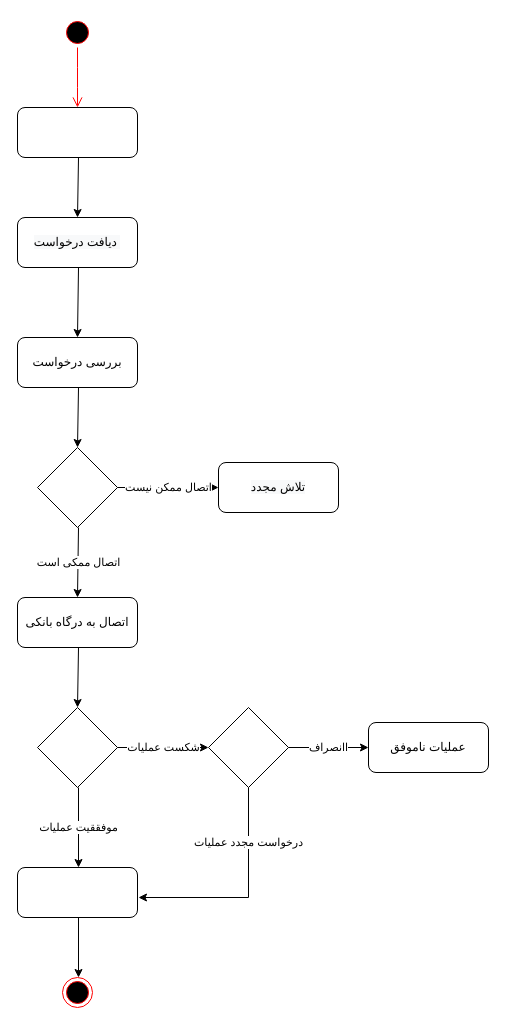
Some shapes in this 506 by 1025 pixel diagram are drawn without their labels. The centre of each missing label's shape, as x and y in pixels:
"درخواست مشتری" goes at (77,132).
"پرداخت با موفقییت انجام شد" goes at (77,892).
